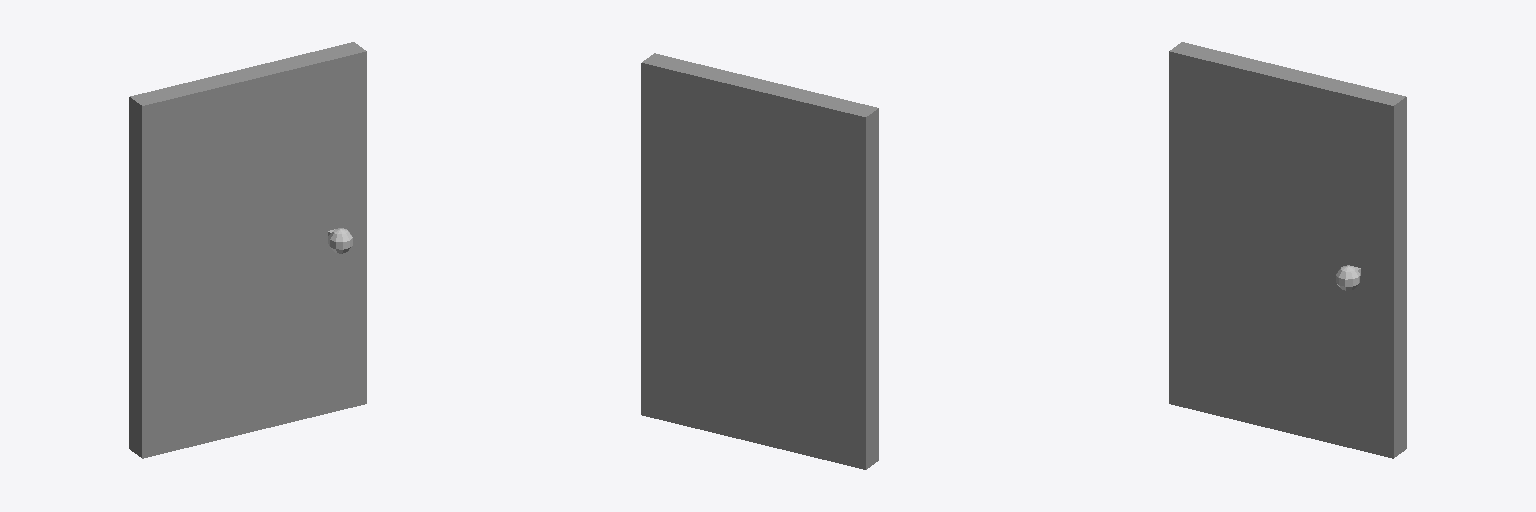
File: level_door_openable.obj
3 views of the same model, side by side, from view 1: azimuth 30°, elevation 25°; view 2: azimuth 150°, elevation 25°; view 3: azimuth 330°, elevation 25° (orthographic).
Parts seen in each view (by area): view 1: Door_Cube; view 2: Door_Cube; view 3: Door_Cube.
Boxes of the visible parts, x1,y1,x2,y2 form: Door_Cube: [129, 42, 366, 458]; Door_Cube: [641, 53, 878, 469]; Door_Cube: [1169, 42, 1406, 458].
Size of the model in its own units: 2 by 3 by 0.4395.